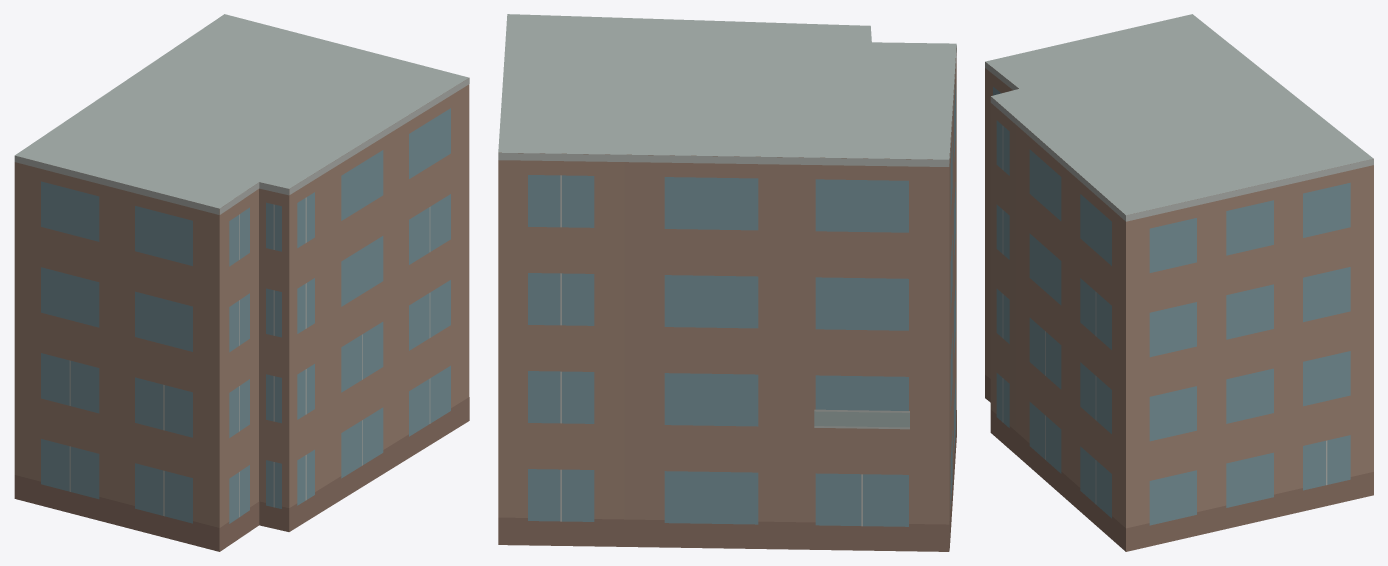
Rendered from survey-upis-32745846.glb.
3 views of the same model, side by side, from view 1: azimuth 30°, elevation 25°; view 2: azimuth 150°, elevation 25°; view 3: azimuth 270°, elevation 25° (orthographic). The views are drawn at different scales.
Visible parts, largest first — view 1: survey-upis-32745846.tmp; view 2: survey-upis-32745846.tmp; view 3: survey-upis-32745846.tmp.
Boxes of the visible parts, left/top/right/bottom form: survey-upis-32745846.tmp: left=14, top=14, right=469, bottom=551; survey-upis-32745846.tmp: left=498, top=14, right=956, bottom=551; survey-upis-32745846.tmp: left=985, top=14, right=1373, bottom=551.
Size of the model in its own units: 16.56 by 12.9 by 13.51.
